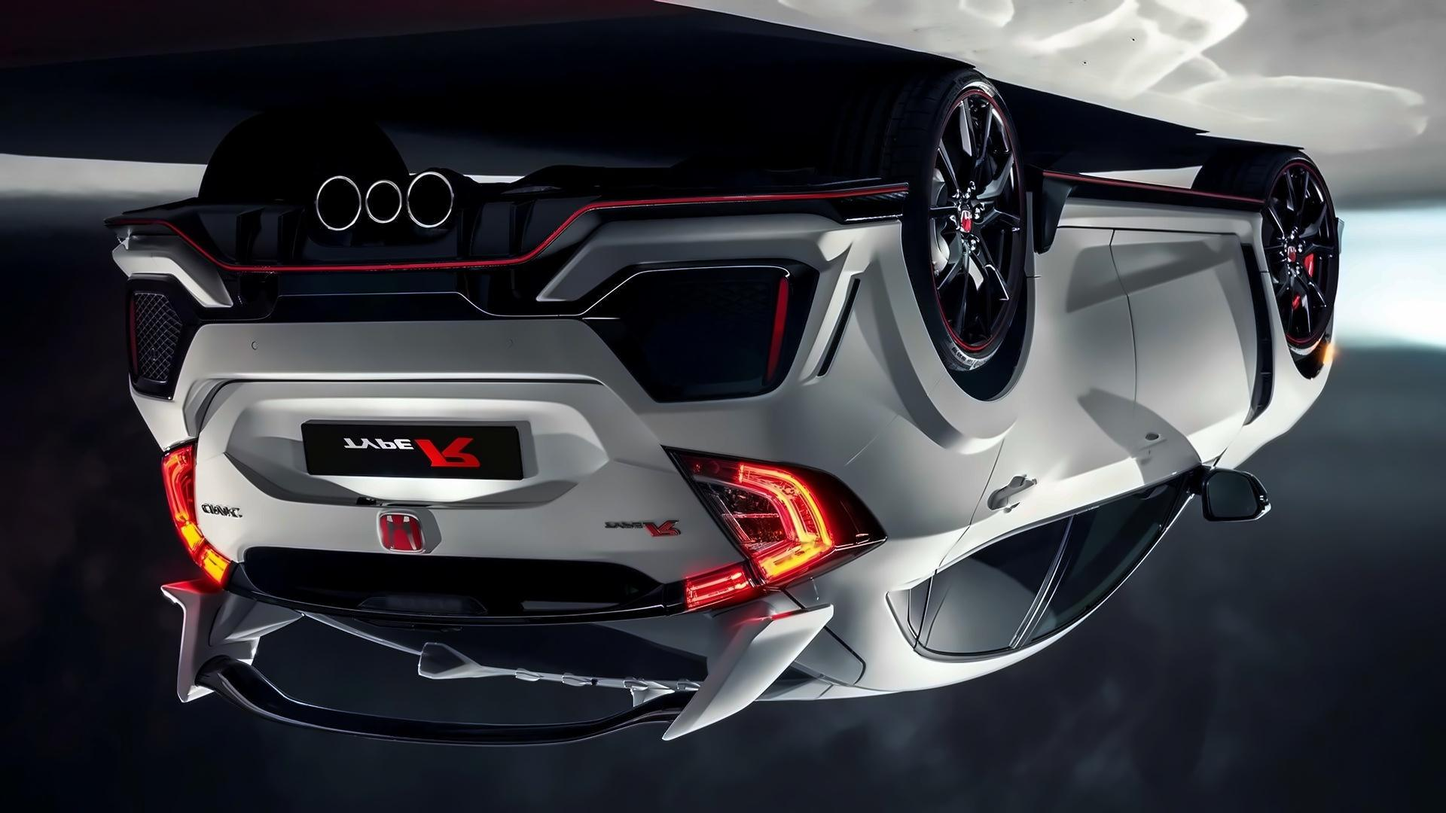Car boot: (182, 373, 725, 629)
Fender - -F-L-: (1216, 247, 1335, 502)
Fender - -R-L-: (775, 242, 1032, 600)
Passenger-s door - -F-L-: (1031, 139, 1266, 702)
Passenger-s door - -R-L-: (914, 153, 1152, 717)
Rear bumper: (109, 172, 927, 479)
Rear light - -L-: (659, 438, 889, 610)
Rear light - -R-: (153, 433, 236, 592)
Side bumper - -L-: (1013, 154, 1297, 292)
Side mirror - -L-: (1190, 458, 1274, 532)
